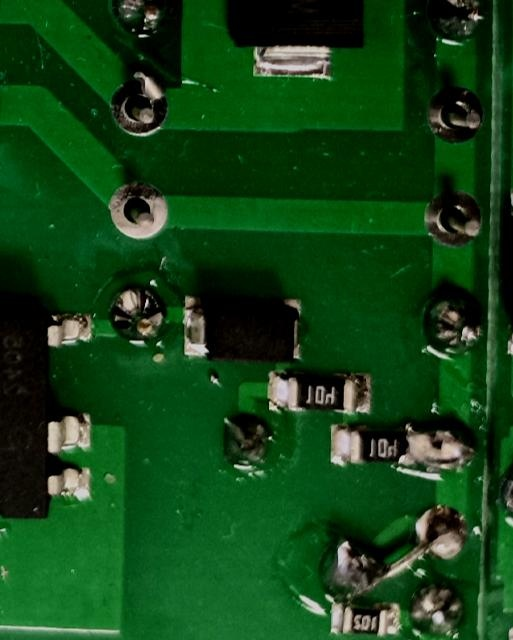chip-resistor: (264, 369, 372, 417), (325, 424, 420, 472), (324, 602, 401, 640)
diode: (177, 295, 304, 364)
